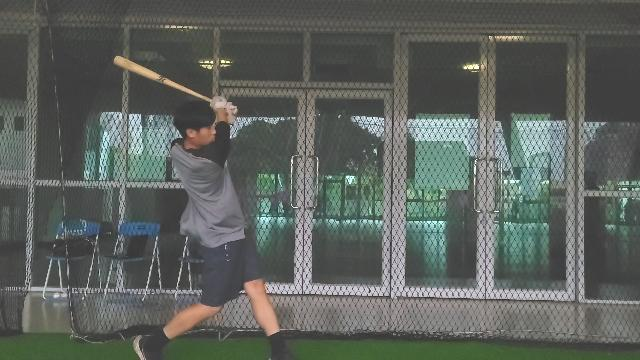baseball bat: (112, 54, 214, 104)
